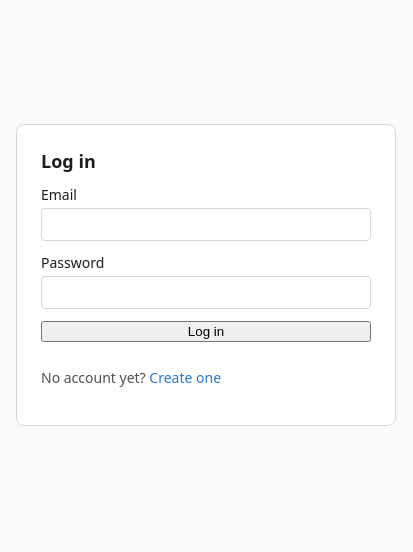
Test: LoginGate › checks the two passwords before signing up
Click the button "Create one" at [185, 378], box top-left (149, 368), bottom-right (221, 387)
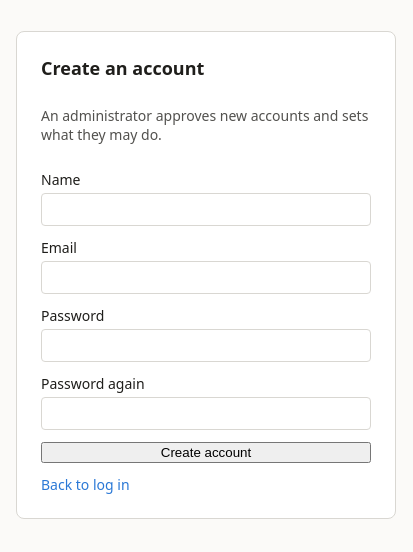
Type "Kim Lee" into the field labelled "Name" at [206, 210], box top-left (41, 193), bottom-right (371, 226)
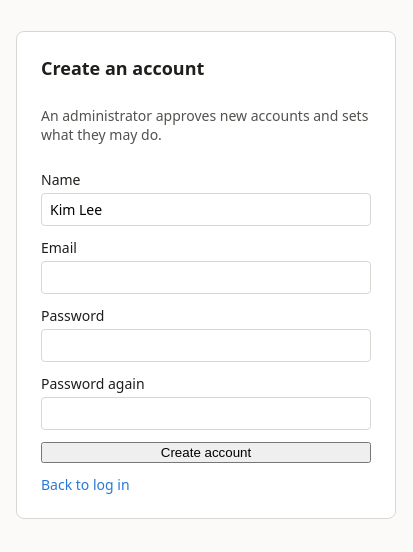
Type "kim@example.test" into the field labelled "Email" at [206, 278], box top-left (41, 261), bottom-right (371, 294)
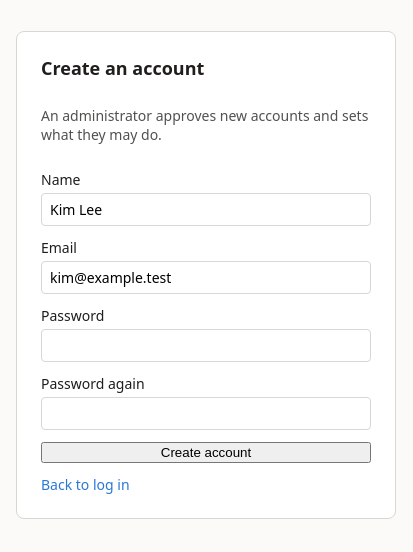
Type "kim-pass-12" into the password field labelled "Password" at [206, 346], box top-left (41, 329), bottom-right (371, 362)
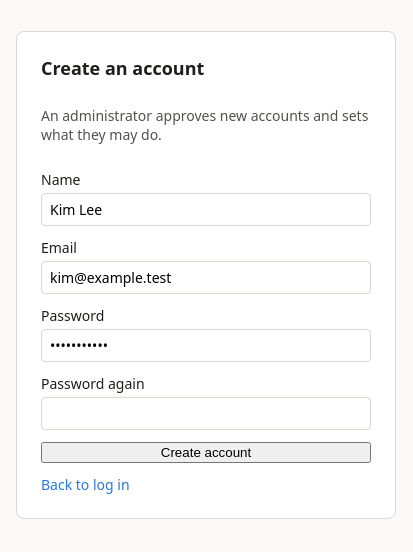
Type "kim-pass-13" into the password field labelled "Password again" at [206, 414], box top-left (41, 397), bottom-right (371, 430)
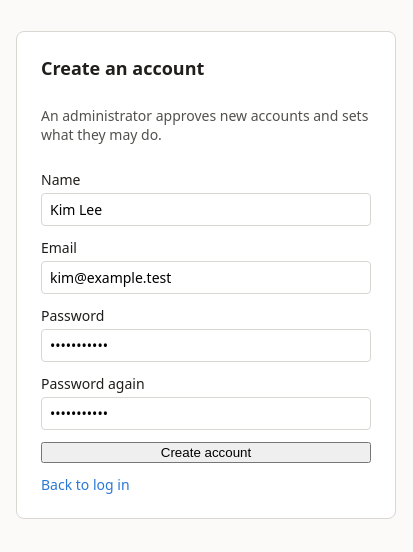
Click the button "Create account" at [206, 452], box top-left (41, 442), bottom-right (371, 463)
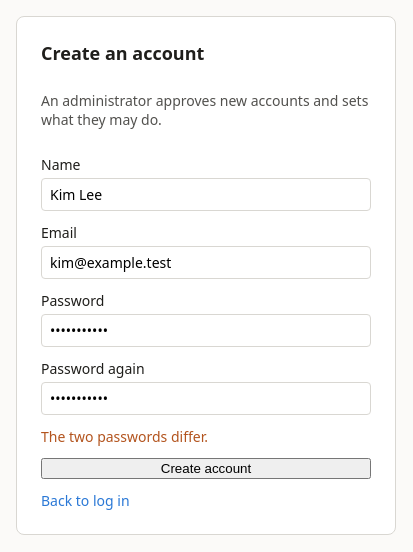
Result: the message shows "differ" at top-left (41, 426), bottom-right (208, 446)
